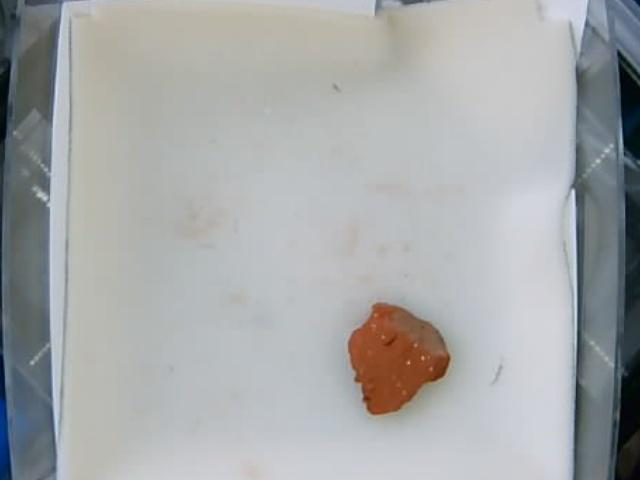Brisk: (352, 302, 449, 412)
